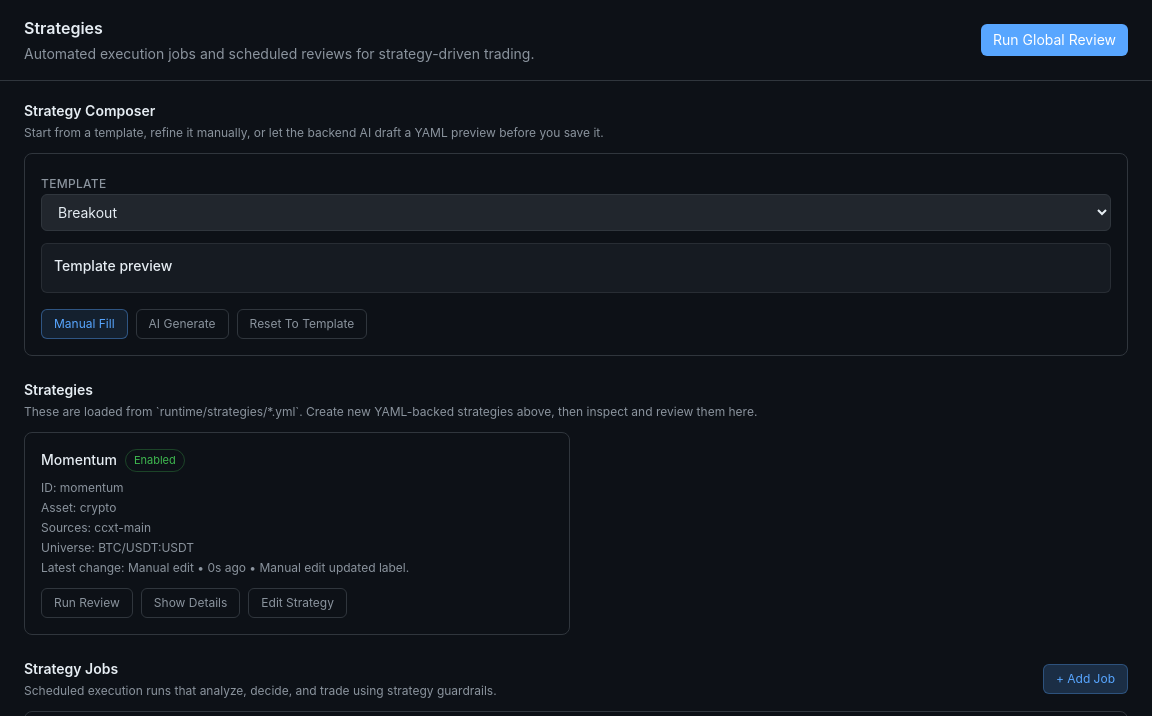
Scenario: StrategiesPage › runs a manual review
Click the button "Run Global Review". click: (1054, 40)
box: [981,24,1128,56]
(page scrolled)
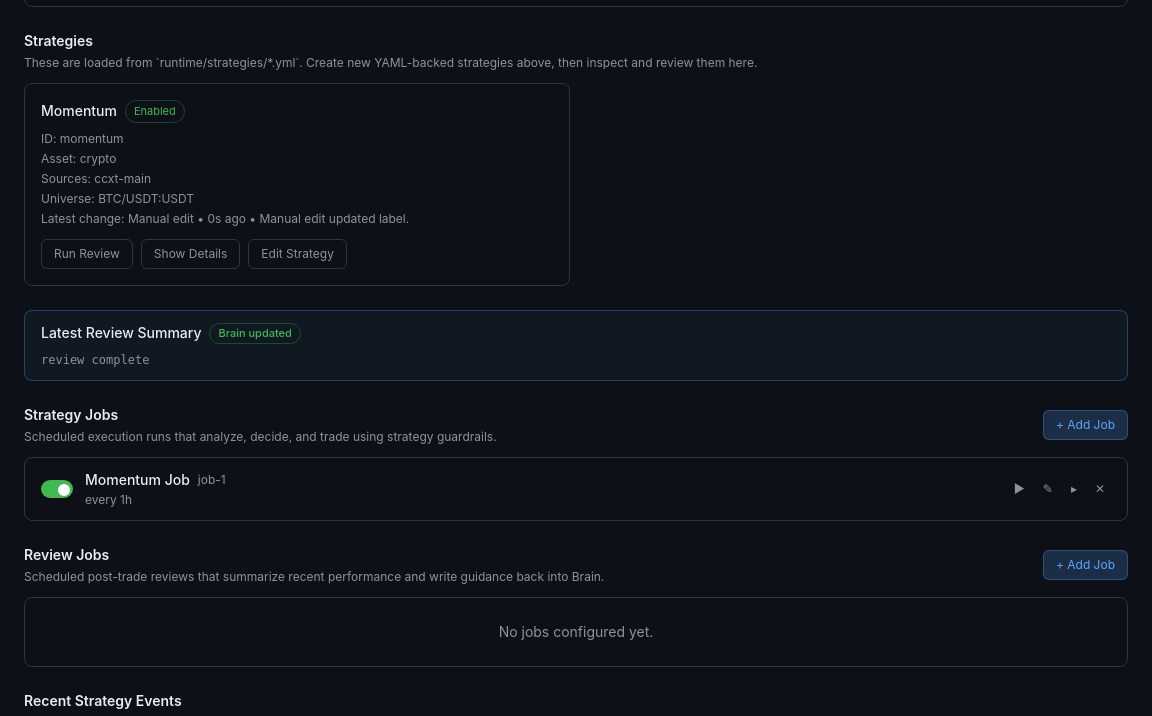
Now the text "Latest Review Summary" is shown, box [41,323,202,343]
Now the text "review complete" is shown, box [41,353,149,367]
